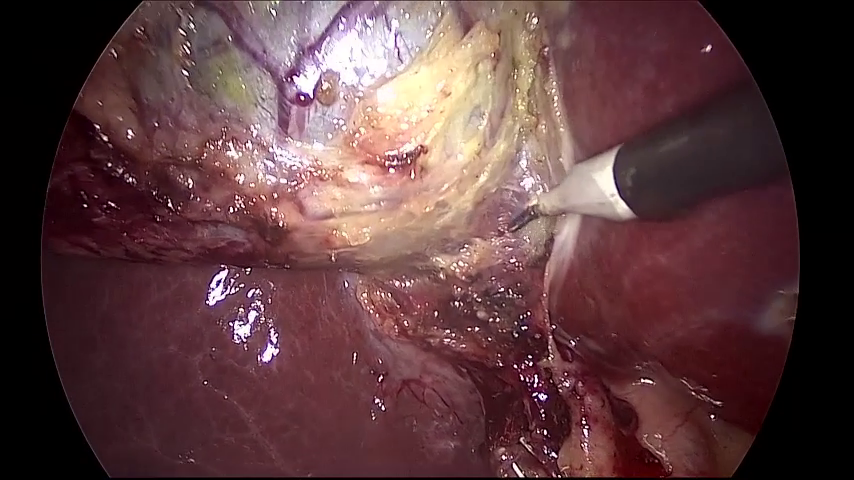lhook: (509, 76, 789, 232)
